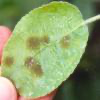Apple Scab Leaf: (2, 2, 93, 96)
